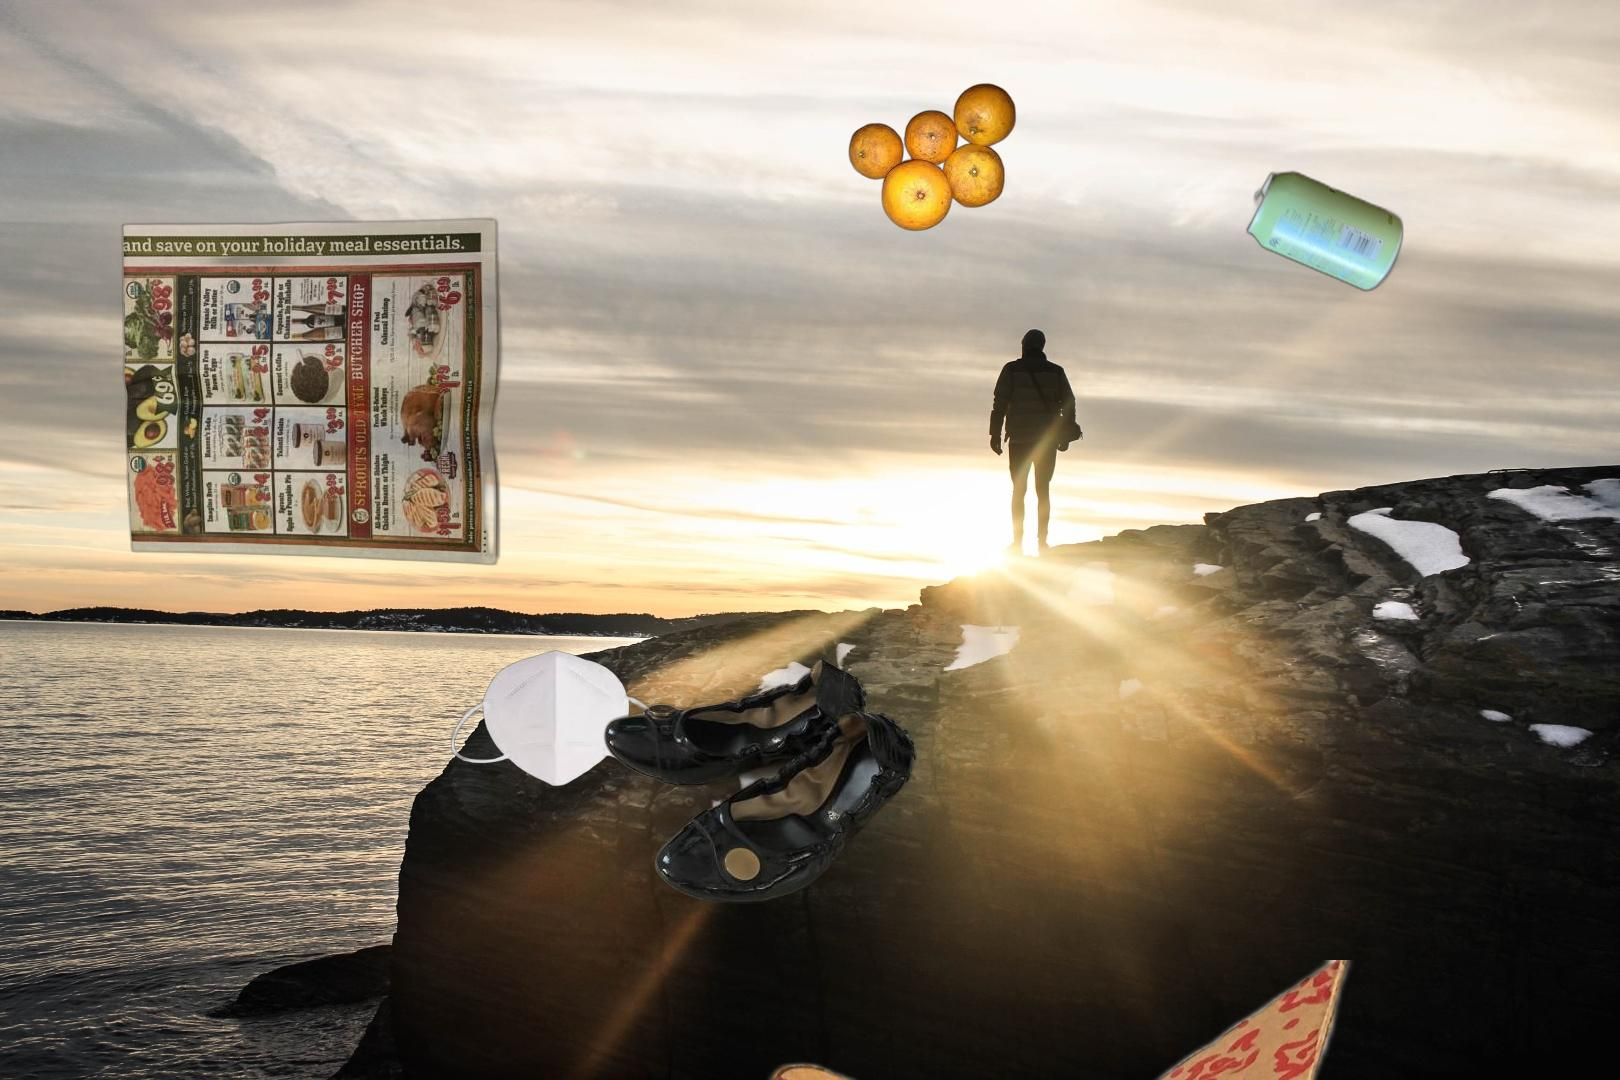biological: (846, 81, 1019, 234)
metal-cans: (1244, 166, 1408, 297)
paper: (118, 210, 507, 568)
shoes: (601, 655, 920, 908)
trash: (448, 648, 673, 790)
trashbox-cardboard: (117, 959, 1620, 1080)
